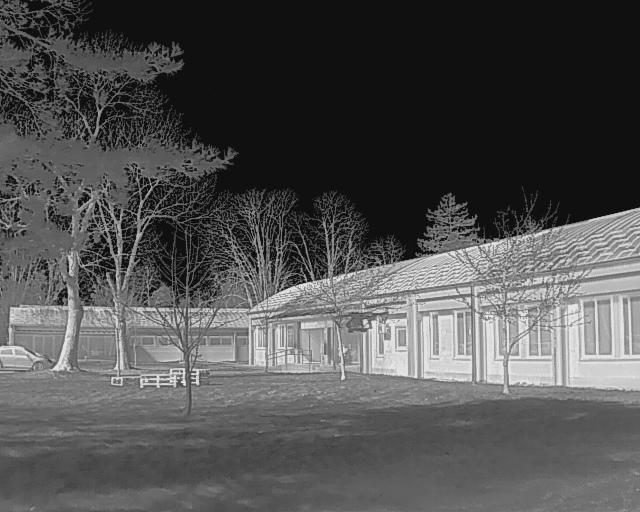drone: (318, 302, 390, 334)
